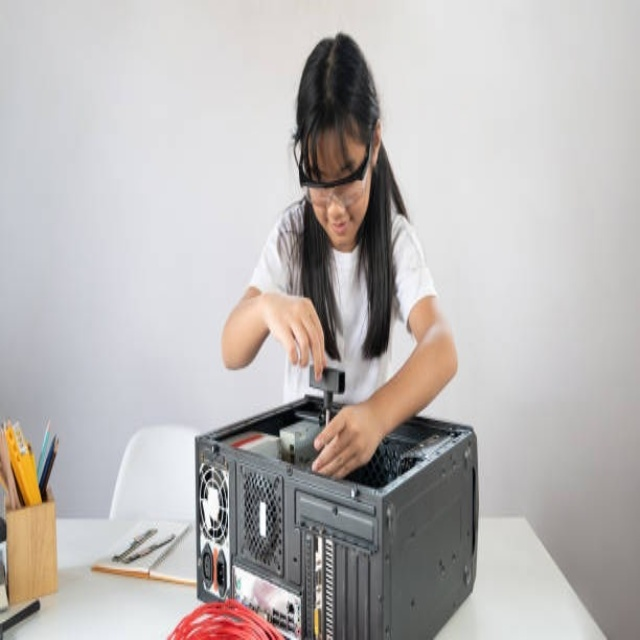Gafas: (299, 127, 374, 210)
Sin_guantes: (264, 287, 326, 383), (313, 402, 379, 482)
Sin_mascara: (318, 214, 358, 249)
